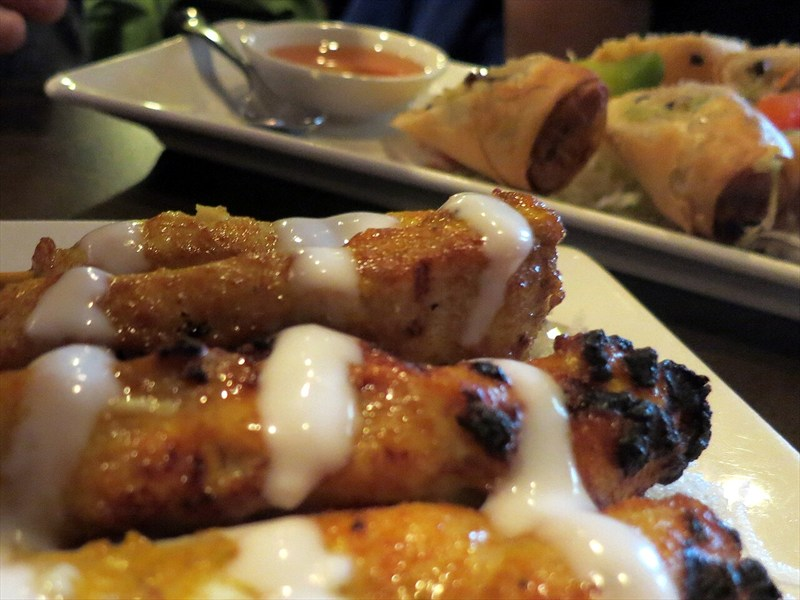Sate Ayam: (117, 24, 783, 588)
